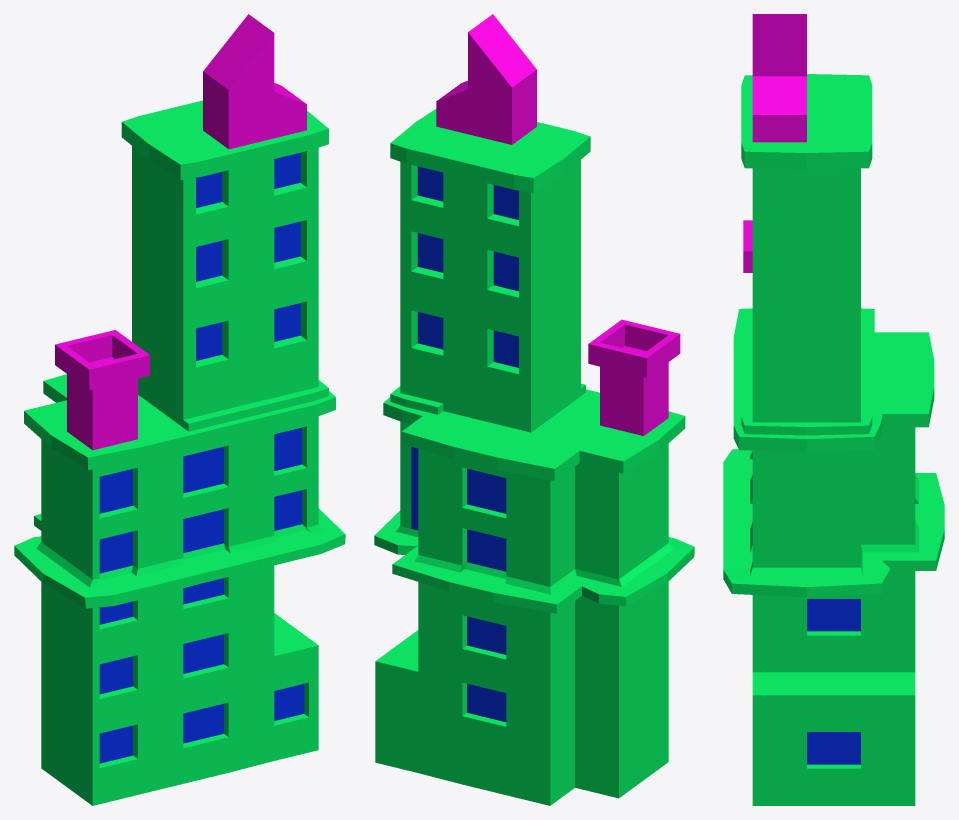
The picture shows the model from 3 angles, left to right: view 1: azimuth 30°, elevation 25°; view 2: azimuth 150°, elevation 25°; view 3: azimuth 270°, elevation 25°; orthographic projection. The views are drawn at different scales.
Visible parts, largest first — view 1: Group001; view 2: Group001; view 3: Group001.
Boxes of the visible parts, bbox=[...] form: Group001: bbox=[14, 14, 345, 805]; Group001: bbox=[374, 14, 694, 805]; Group001: bbox=[723, 14, 944, 805].
Bounding box in the file's own units: 81.59 × 207 × 54.05.
